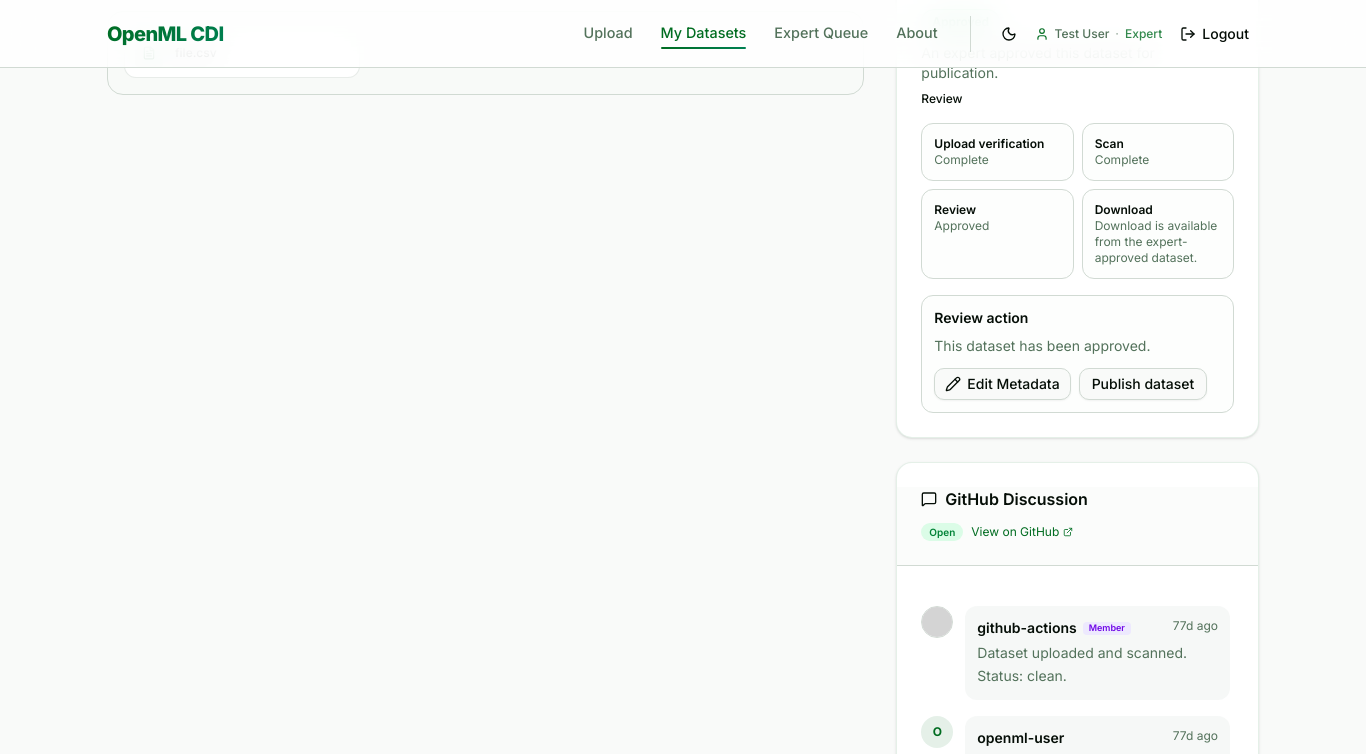
Test case: DatasetDetailPage › lets experts publish approved datasets from the lifecycle panel
(page scrolled)
Click the button "Publish dataset": (1143, 384) left=1079, top=368, right=1207, bottom=400
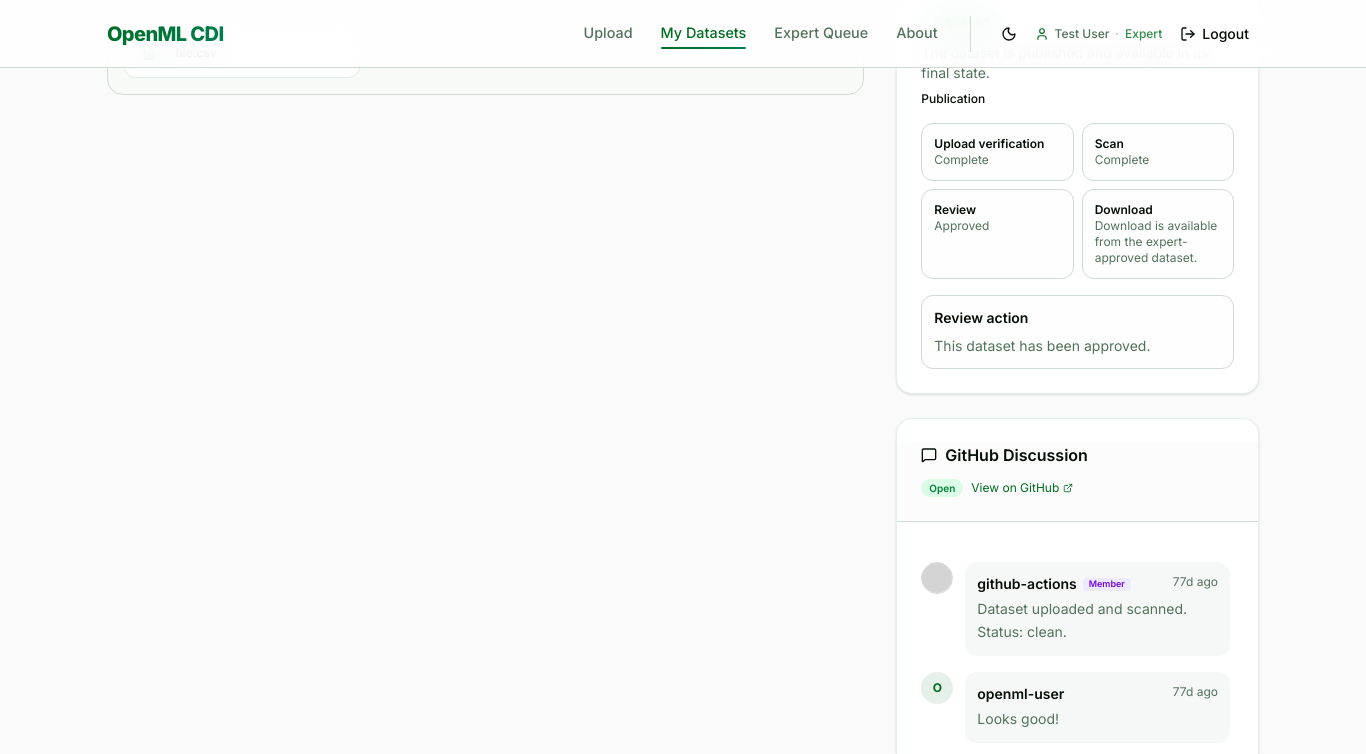
Expected: the text "The dataset is published and available in its final state." is shown, left=921, top=43, right=1234, bottom=83
